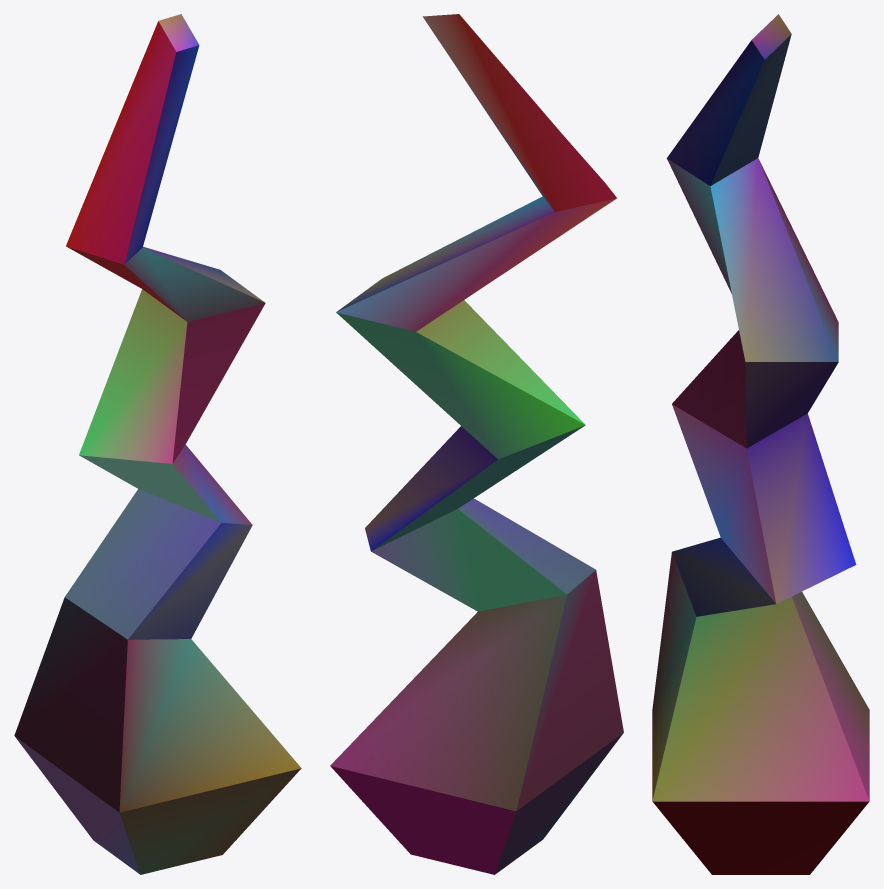
The model's file is zeometry-sculptural-zigzag-column_v1.glb.
3 renders of one model, left to right at view 1: azimuth 30°, elevation 25°; view 2: azimuth 150°, elevation 25°; view 3: azimuth 270°, elevation 25°, orthographic. The views are drawn at different scales.
Parts seen in each view (by area): view 1: Zigzag Column; view 2: Zigzag Column; view 3: Zigzag Column.
Part boxes in pixels (x1=…): Zigzag Column: x1=14, y1=14, x2=301, y2=874; Zigzag Column: x1=330, y1=14, x2=623, y2=874; Zigzag Column: x1=652, y1=14, x2=869, y2=874.
Bounding box in the file's own units: 0.1387 × 0.5 × 0.1165.
